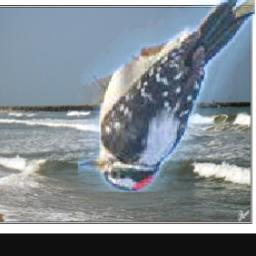Woodpecker: (79, 0, 256, 192)
